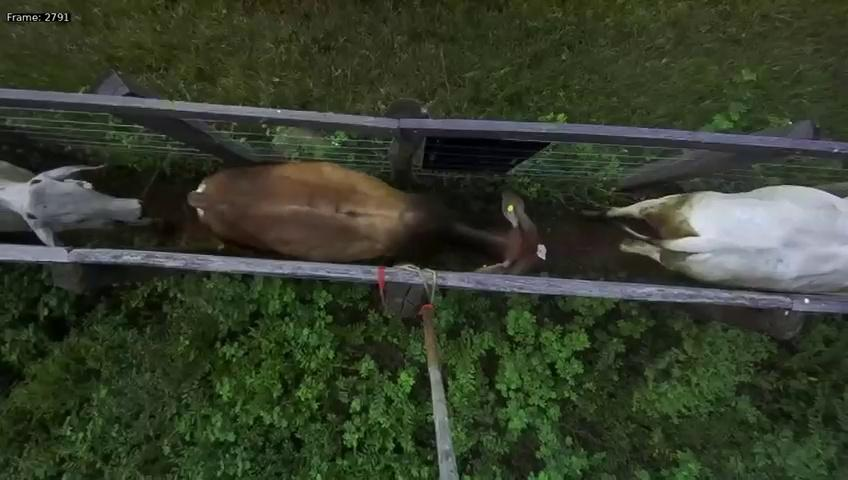cattle: (181, 154, 552, 282)
